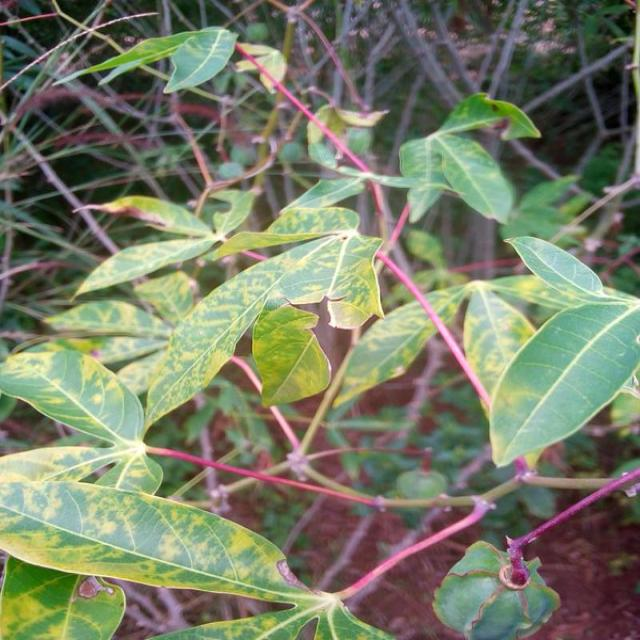cassava leaf: (142, 227, 386, 438), (489, 294, 640, 468), (432, 537, 562, 638), (252, 303, 332, 408)
